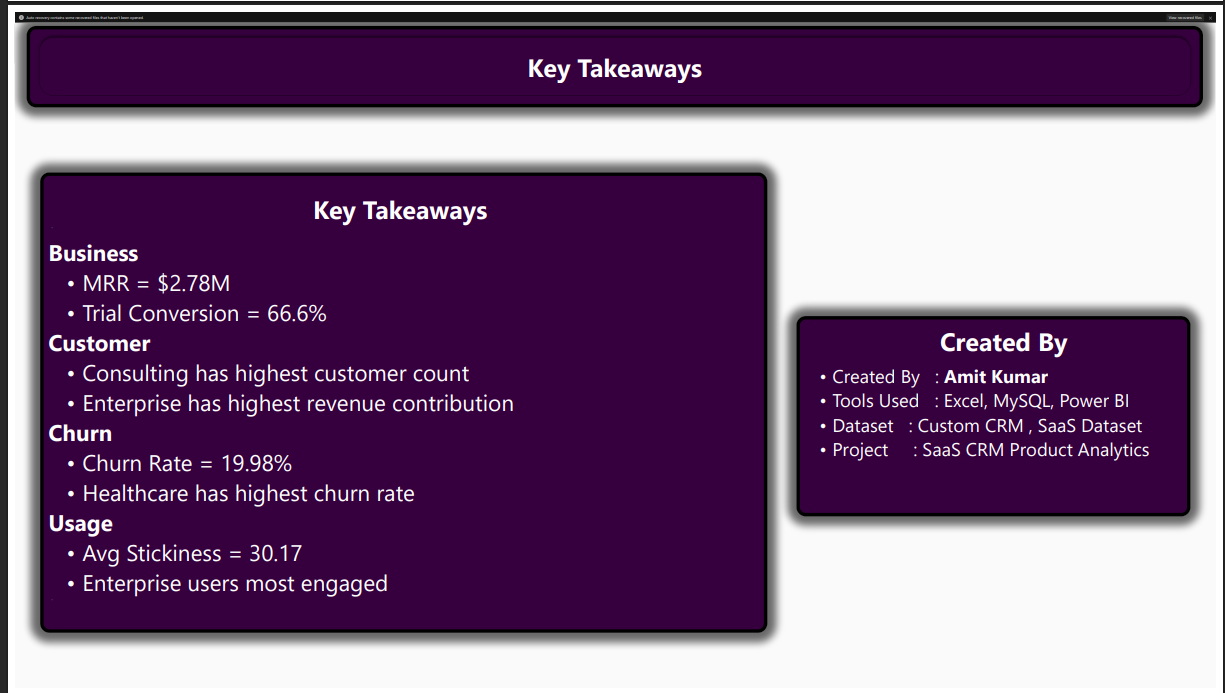

What the dashboard file says about the page in this screenshot:
{"tool":"powerbi","page":{"name":"Key Takeways","canvas":[3840,2160],"ordinal":5},"visuals":[{"type":"shape","box":[39,43.3,3761.3,259.7],"z":0},{"type":"textbox","box":[82.2,510.7,2324.3,1471.6],"z":1000},{"type":"textbox","box":[2500,970,1260,640],"z":3000}]}

Visuals, with their boxes in screenshot pixels (x1, y1, x2, y2):
shape: [0, 8, 1220, 92]
textbox: [8, 160, 766, 640]
textbox: [796, 310, 1207, 519]
